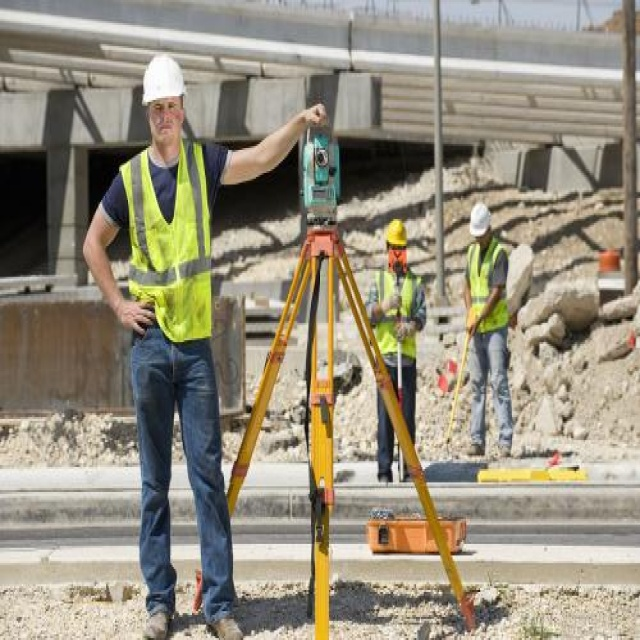Helmet: (131, 36, 203, 164), (377, 203, 425, 277), (459, 192, 501, 252)
Reflective vest: (105, 138, 225, 354), (369, 267, 423, 362), (462, 235, 508, 335)
